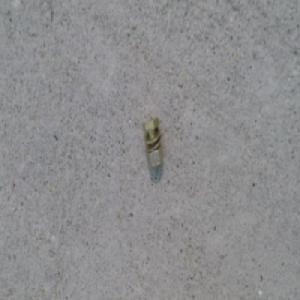BoltNutSet: (141, 115, 164, 172)
